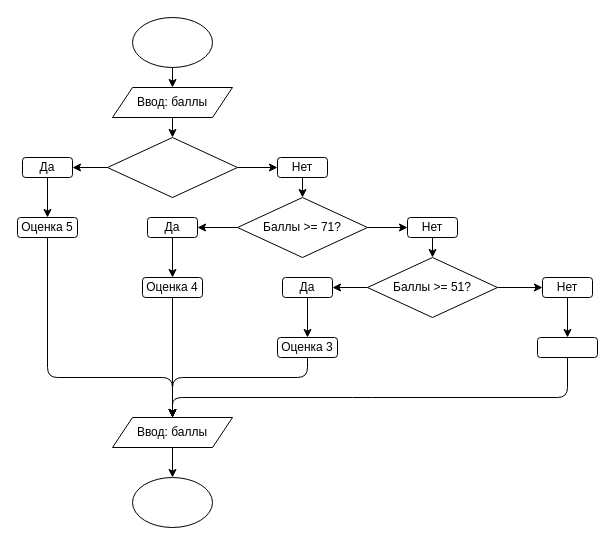
This 615x545 diagram has some shape labels left out. The box of each missing label's shape, as (x1, y1, x2, y2) in pixels:
Баллы >= 91?: (106, 136, 238, 198)
Конец: (132, 476, 212, 528)
Начало: (132, 16, 212, 68)
Оценка 2: (536, 336, 598, 358)
